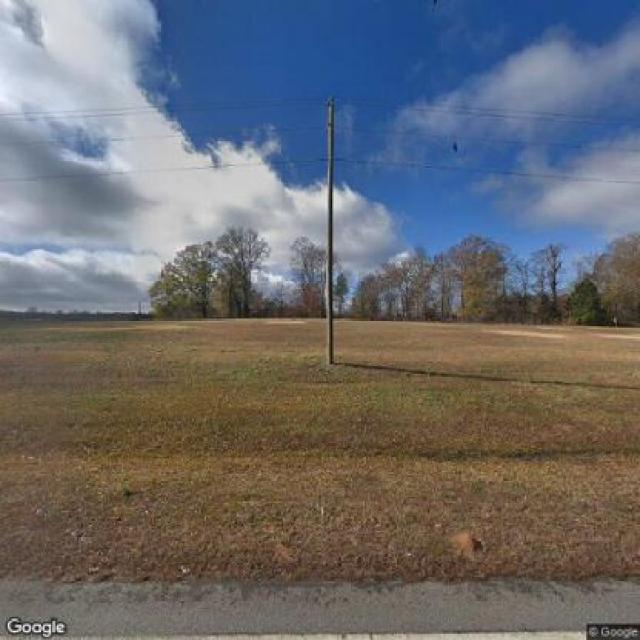pole: (309, 95, 357, 359)
